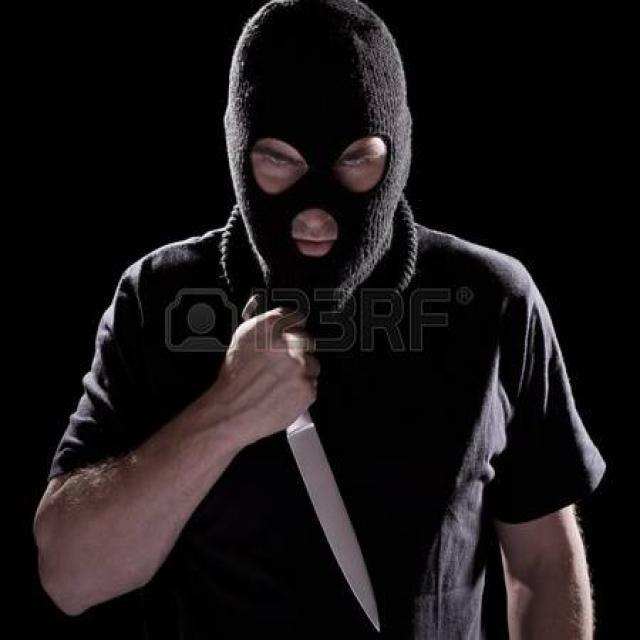knife: (243, 293, 385, 636)
